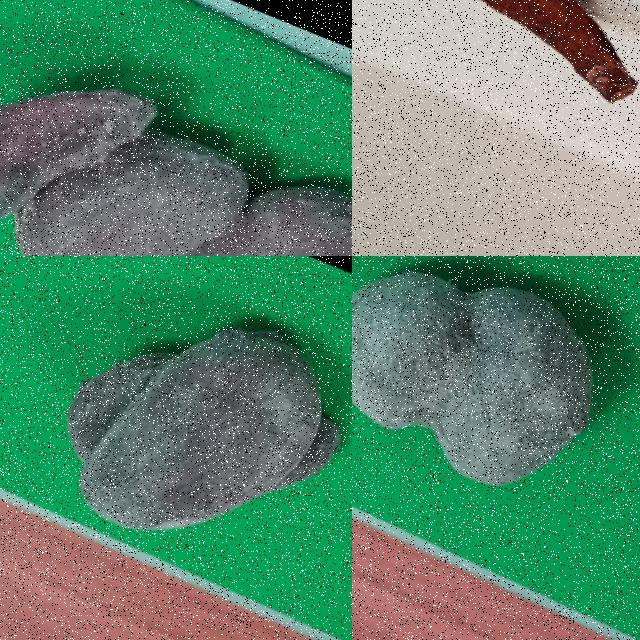Agglomerated_cocoabeans: (0, 256, 351, 639), (352, 256, 639, 590), (0, 0, 351, 255)
Flat_cocoabeans: (352, 0, 639, 169)
